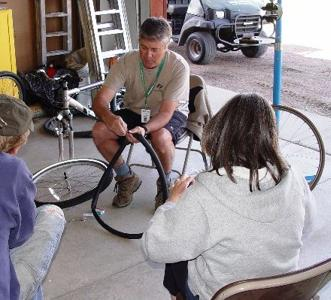person: (92, 16, 192, 208)
